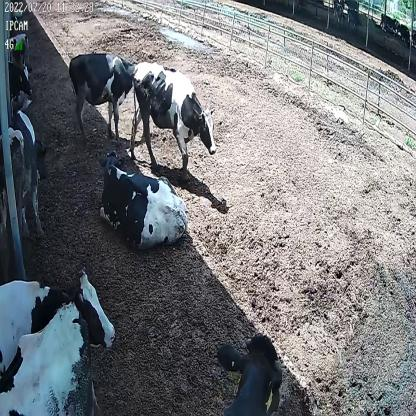cow: (130, 54, 216, 176), (96, 146, 189, 248), (68, 51, 140, 140)
